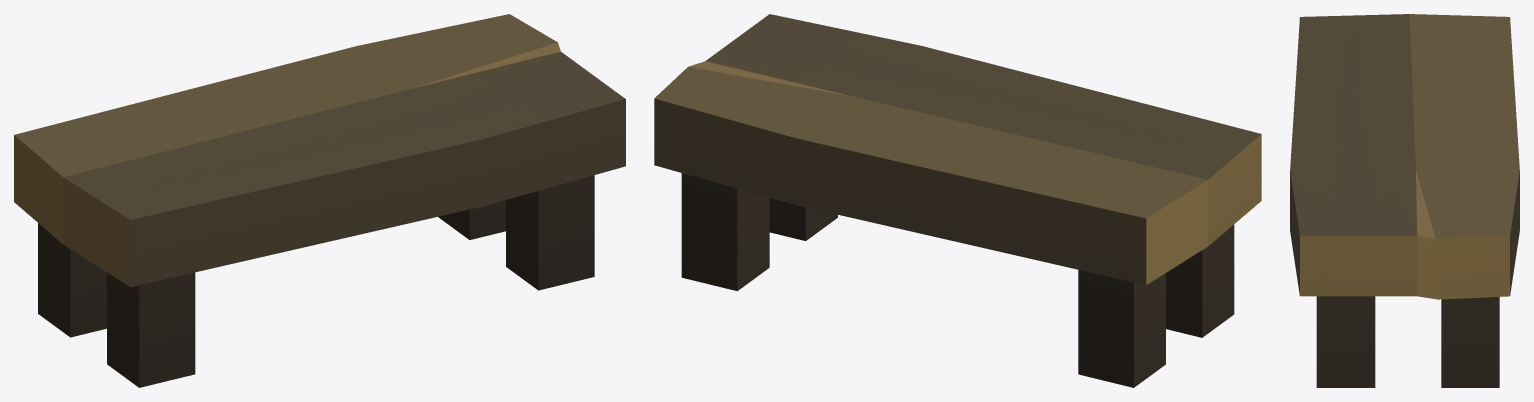
Rendered from bench.fbx.
3 renders of one model, left to right at view 1: azimuth 30°, elevation 25°; view 2: azimuth 150°, elevation 25°; view 3: azimuth 270°, elevation 25°, orthographic. The views are drawn at different scales.
Parts seen in each view (by area): view 1: bench; view 2: bench; view 3: bench.
Part boxes in pixels (x1,y1,x2,y2): bench: [14, 14, 625, 387]; bench: [654, 14, 1261, 387]; bench: [1290, 14, 1519, 387].
Bounding box in the file's own units: 103 × 34.58 × 44.41.
